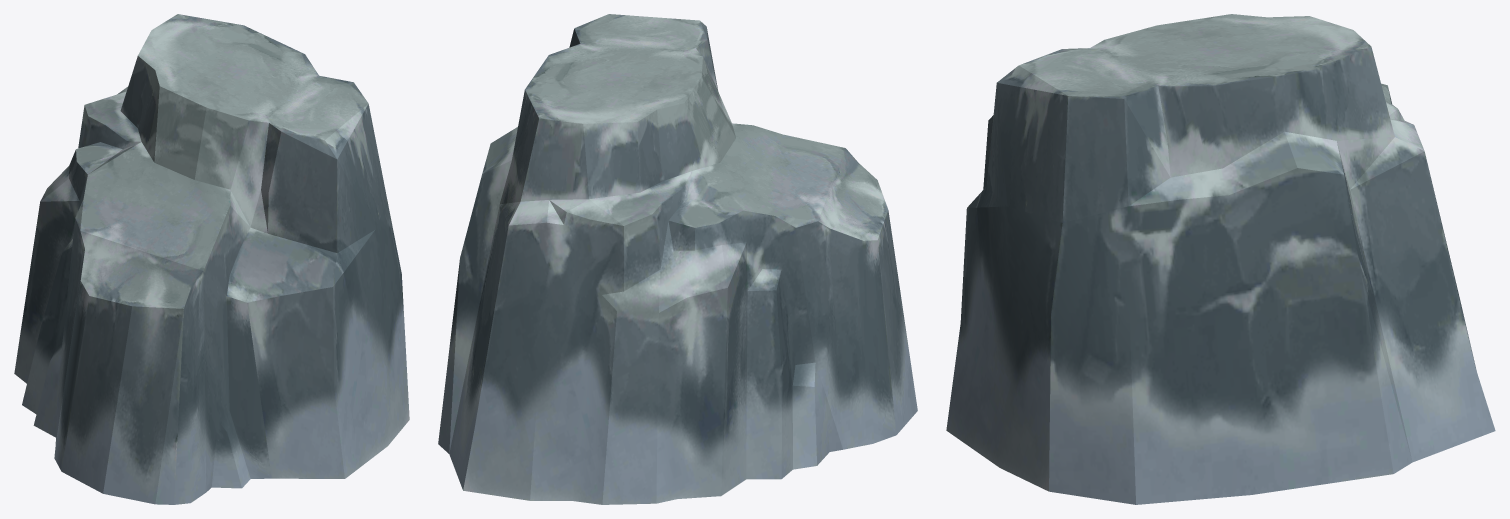
File: map_114_shitou_3.fbx
3 renders of one model, left to right at view 1: azimuth 30°, elevation 25°; view 2: azimuth 150°, elevation 25°; view 3: azimuth 270°, elevation 25°, orthographic. The views are drawn at different scales.
Visible parts, largest first — view 1: map_114_shitou_3; view 2: map_114_shitou_3; view 3: map_114_shitou_3.
Boxes of the visible parts, x1,y1,x2,y2 form: map_114_shitou_3: (14, 14, 409, 504); map_114_shitou_3: (438, 14, 917, 504); map_114_shitou_3: (946, 14, 1495, 504).
Size of the model in its own units: 3.72 by 3.37 by 4.29.
